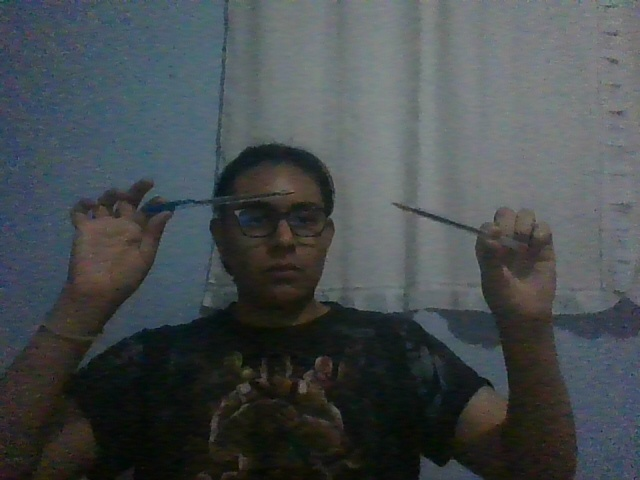pluma: (391, 201, 528, 253), (144, 189, 296, 213)
